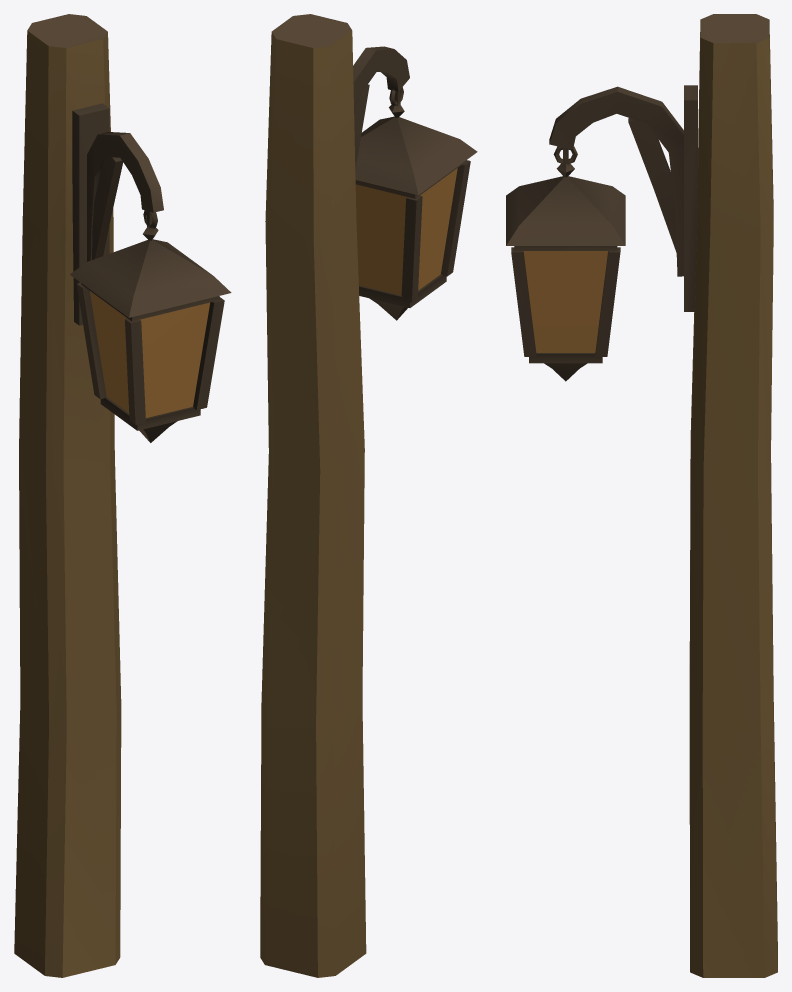
File: p_lamp_post.glb
3 renders of one model, left to right at view 1: azimuth 30°, elevation 25°; view 2: azimuth 150°, elevation 25°; view 3: azimuth 270°, elevation 25°, orthographic.
Parts seen in each view (by area): view 1: p_lamp_post; view 2: p_lamp_post; view 3: p_lamp_post.
Boxes of the visible parts, box(x1,y1,x2,y2) form: p_lamp_post: box(14, 14, 231, 977); p_lamp_post: box(260, 14, 477, 977); p_lamp_post: box(506, 14, 777, 977).
Size of the model in its own units: 0.256 by 2.2 by 0.582.
